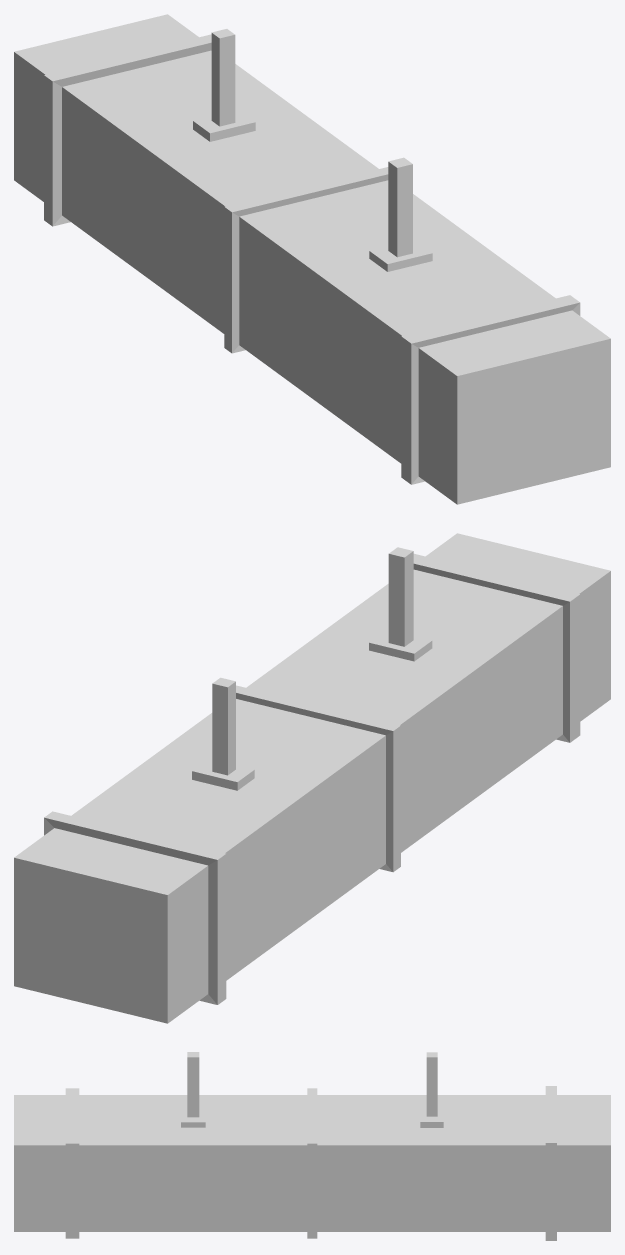
The model's file is duct_line.obj.
The picture shows the model from 3 angles, top to bottom: view 1: azimuth 30°, elevation 25°; view 2: azimuth 150°, elevation 25°; view 3: azimuth 270°, elevation 25°; orthographic projection. The views are drawn at different scales.
Visible parts, largest first — view 1: duct_line:name0; view 2: duct_line:name0; view 3: duct_line:name0.
Boxes of the visible parts, x1,y1,x2,y2 form: duct_line:name0: (14, 14, 610, 504); duct_line:name0: (14, 533, 610, 1023); duct_line:name0: (14, 1052, 610, 1240).
Bounding box in the file's own units: 1.13 × 1.46 × 5.
1 material, 1 textured.
